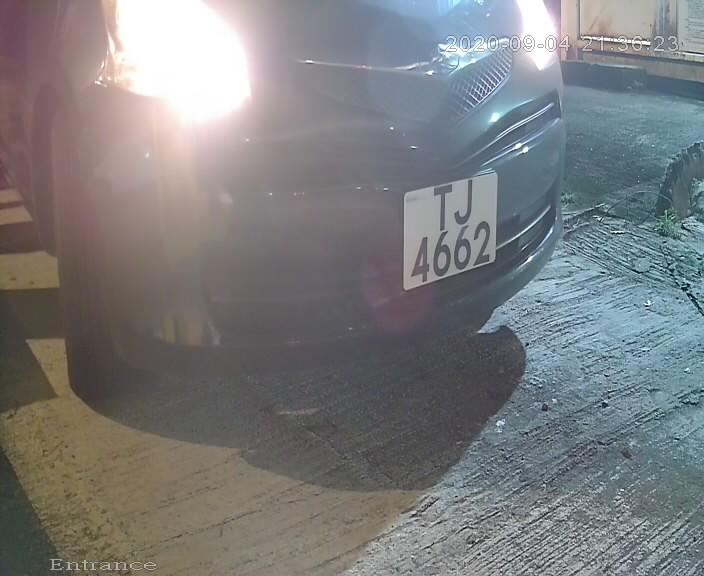License Plate: (389, 157, 513, 304)
